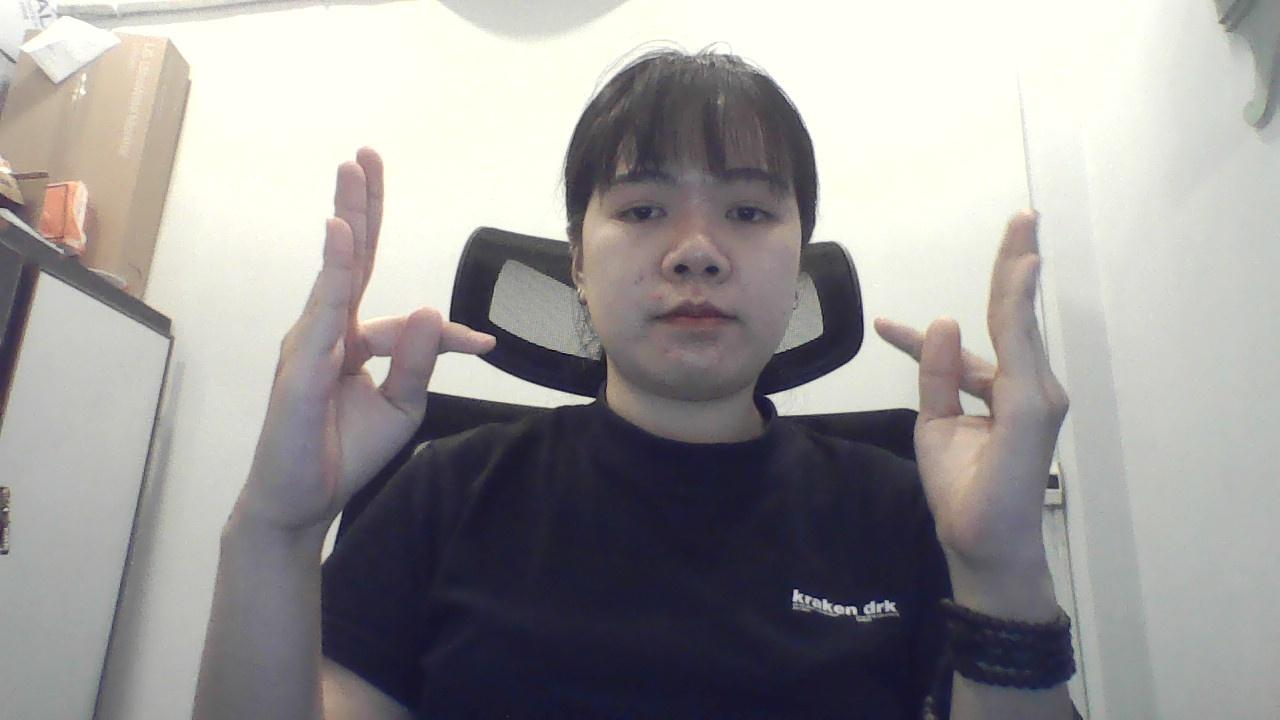T: (231, 129, 504, 532), (874, 190, 1084, 572)
